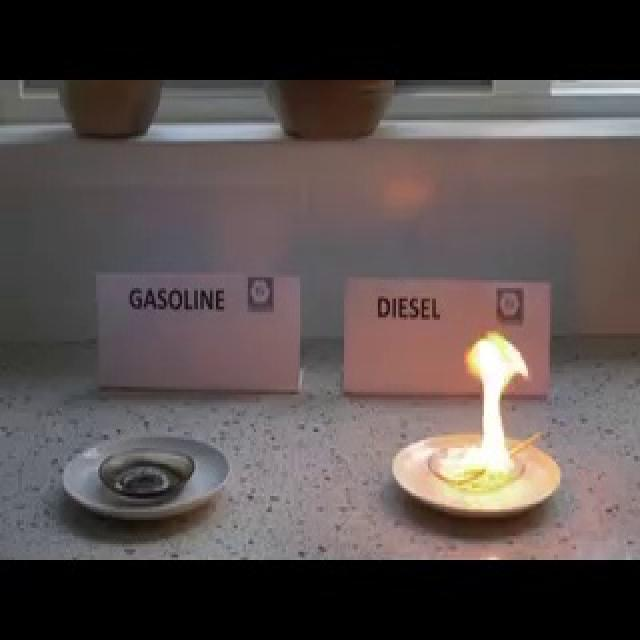Fire: (441, 332, 532, 488)
